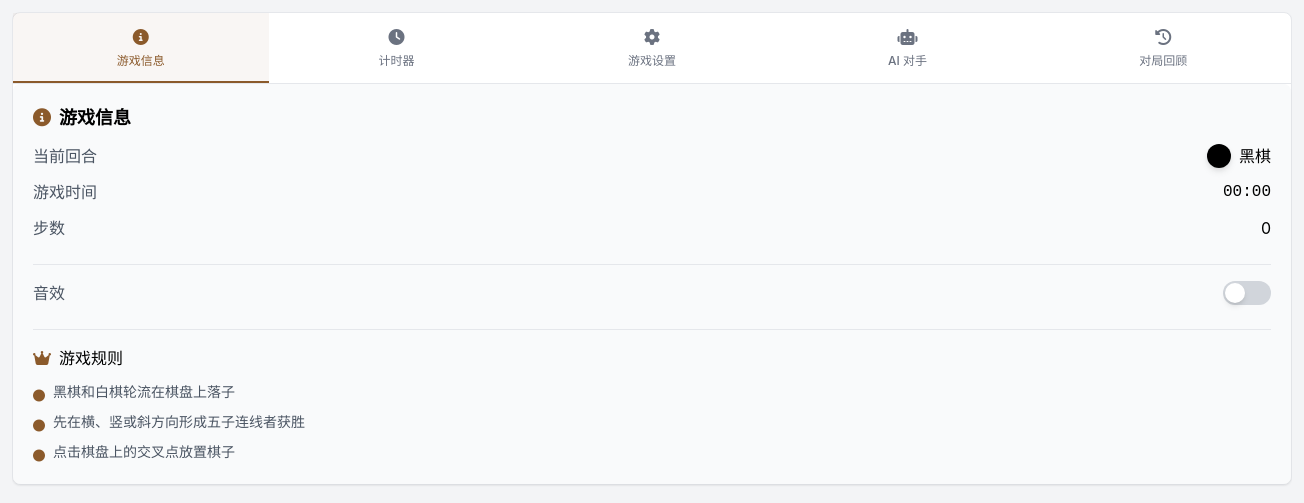
it: GameTabs Component › renders tabs and switches content
The width and height of the screenshot is (1304, 503).
Check: the text "当前回合" is shown, box [33,144,97,168]
Note: Click Timer tab
Click the button "计时器" at (396, 48), box [269,13,524,83]
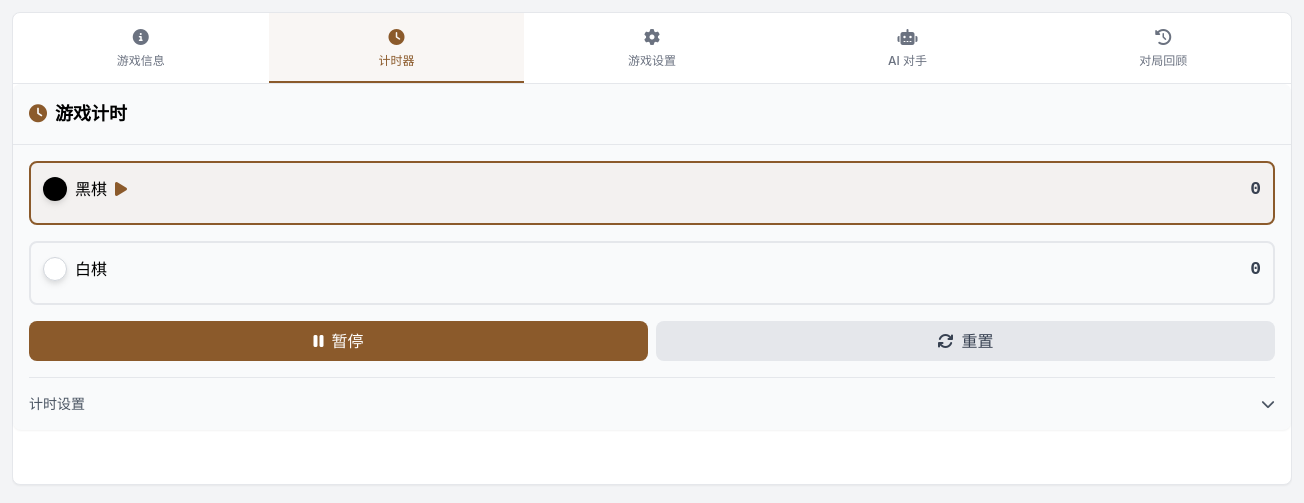
Check: the heading "游戏计时" is shown, box [29,103,127,124]
Note: Click Settings tab
Click the button "游戏设置" at (652, 48), box [524,13,780,83]
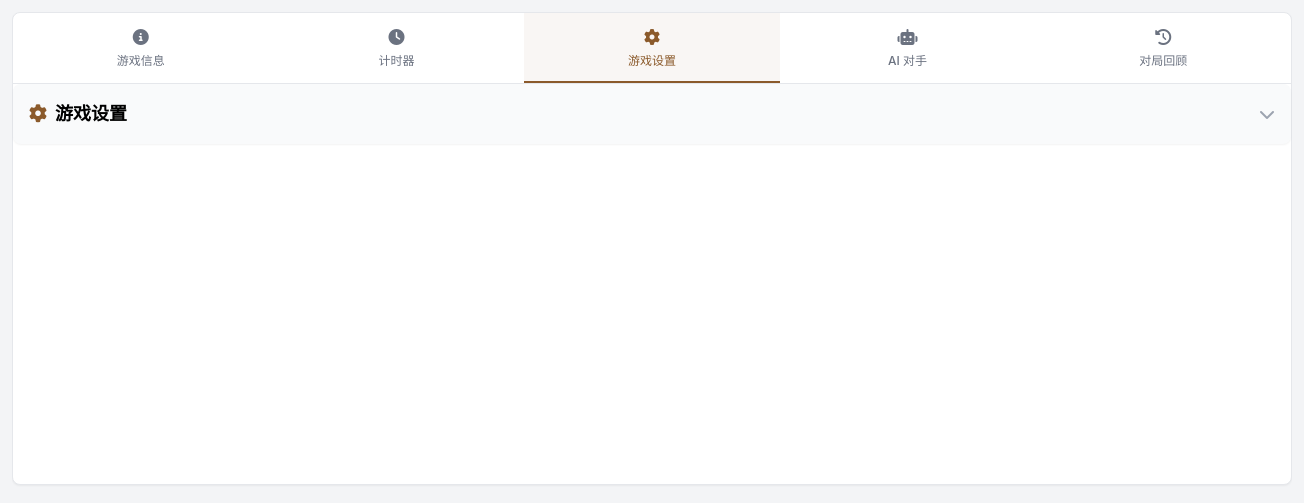
Check: the heading "游戏设置" is shown, box [29,100,127,128]
